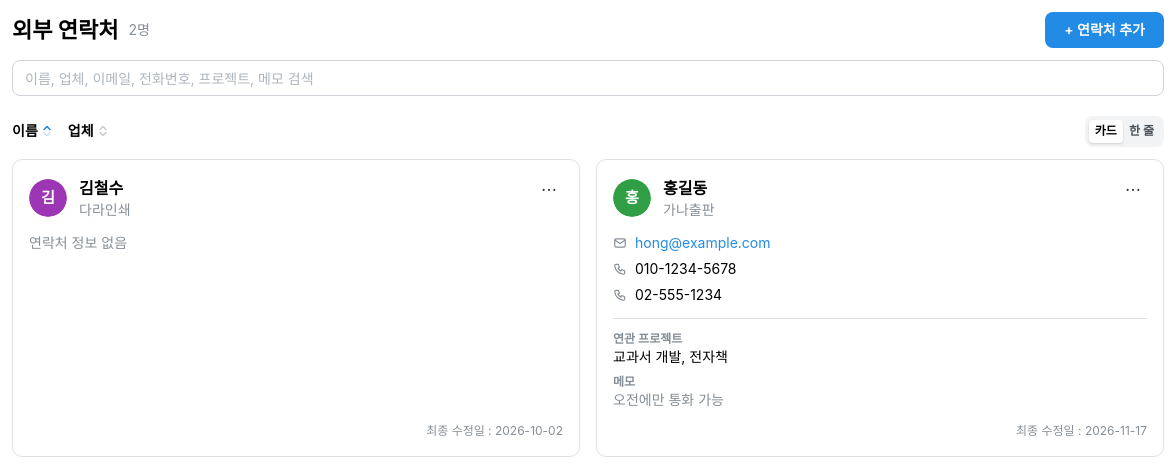
Scenario: ContactsPage › 좁은 화면도 카드·한 줄을 바꿀 수 있고, 한 줄 보기는 넓은 표 대신 이름·업체, 전화·메일, 프로젝트·메모 촘촘한 목록이다
Expected: the text "홍길동" is shown, [663,176,714,200]
Expected: the text "최종 수정일 : 2026-11-17" is shown, [1016,423,1147,438]
Click the text "한 줄": (1141, 130) [1129,123,1154,138]
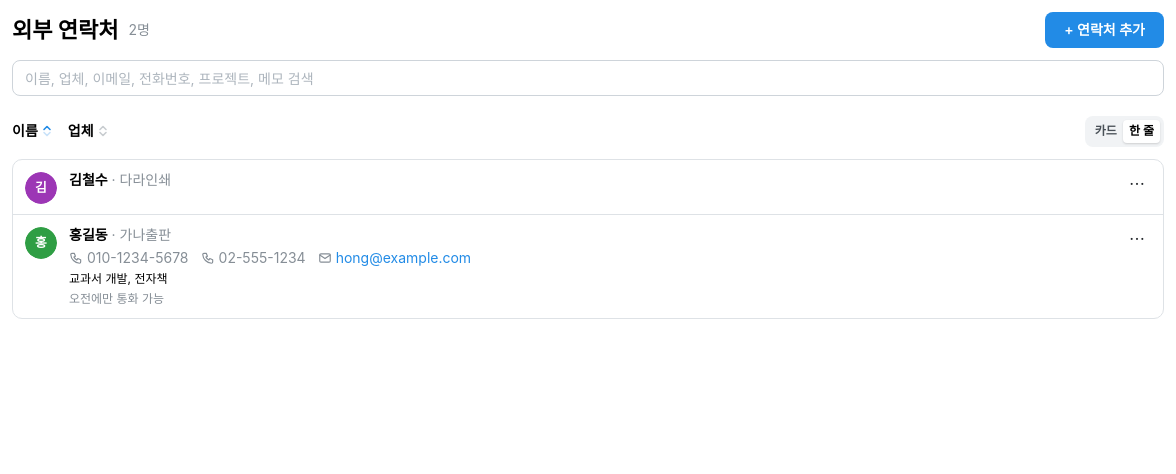
Expected: the text "교과서 개발, 전자책" is shown, [69,271,168,286]
Expected: the list named "외부 연락처 목록" is shown, [12,159,1164,319]
Expected: the text "· 가나출판" is shown, [108,226,171,243]
